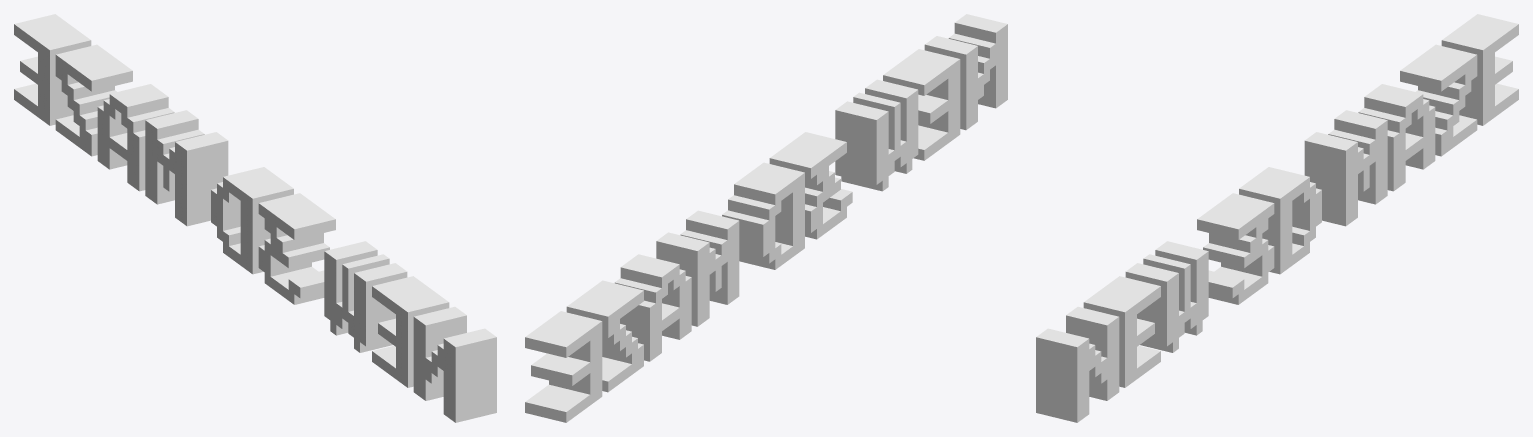
File: new_3d_maze.glb
3 renders of one model, left to right at view 1: azimuth 30°, elevation 25°; view 2: azimuth 150°, elevation 25°; view 3: azimuth 330°, elevation 25°, orthographic.
Parts seen in each view (by area): view 1: Mesh_4.001; view 2: Mesh_4.001; view 3: Mesh_4.001.
Boxes of the visible parts, x1,y1,x2,y2 form: Mesh_4.001: (14, 14, 496, 422); Mesh_4.001: (525, 14, 1007, 422); Mesh_4.001: (1036, 14, 1518, 422).
Bounding box in the file's own units: 4 × 7 × 74.
1 material, 1 textured.
